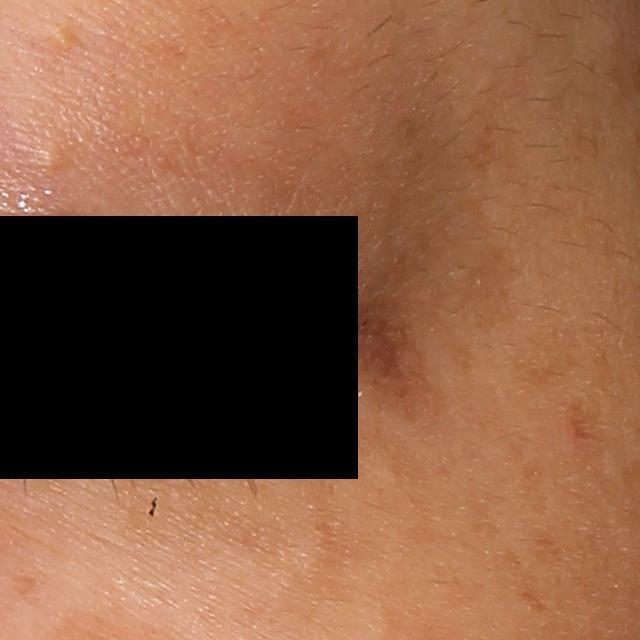comedo: (36, 141, 68, 175)
melasma: (298, 416, 448, 564), (498, 320, 616, 397), (453, 248, 519, 334), (491, 545, 561, 625), (563, 399, 614, 504), (524, 518, 577, 591), (459, 113, 503, 183), (518, 457, 553, 524), (4, 563, 51, 608)
